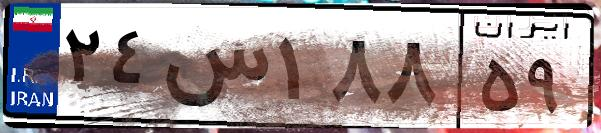1: (270, 28, 330, 110)
2: (57, 26, 110, 100)
4: (110, 28, 158, 98)
5: (475, 38, 525, 113)
8: (385, 28, 445, 110), (330, 28, 385, 110)
9: (525, 38, 570, 115)
س: (158, 20, 270, 120)
